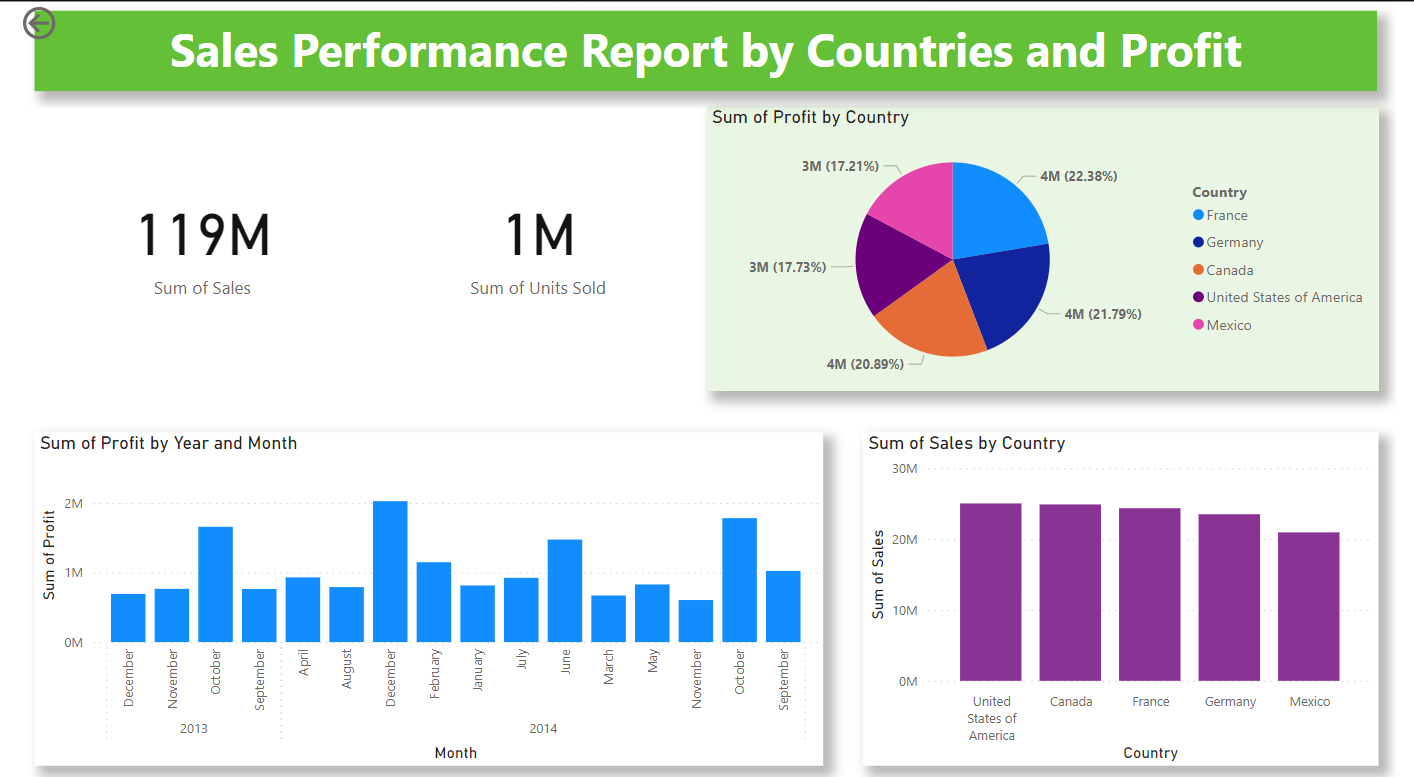

The dashboard page shown, as its layout file describes it:
{"tool":"powerbi","page":{"name":"Page 2","canvas":[1280,720],"ordinal":1},"visuals":[{"type":"textbox","box":[15.7,8.6,1247.1,74.3],"z":0},{"type":"actionButton","box":[0,0,100,40],"z":1000},{"type":"cardVisual","fields":{"Data":["Sum(financials. Sales)","Sum(financials.Units Sold)"]},"box":[15.7,98.6,624.3,264.3],"z":2000},{"type":"pieChart","fields":{"Y":["Sum(financials.Profit)"],"Category":["financials.Country"]},"box":[640,97.1,624.3,264.3],"z":3000},{"type":"columnChart","fields":{"Y":["Sum(financials.Profit)"],"Category":["financials.Year","financials.Month"]},"box":[15.7,400,732.9,310],"z":4000},{"type":"columnChart","fields":{"Y":["Sum(financials. Sales)"],"Category":["financials.Country"]},"box":[785,400,479,310],"z":5000}]}

Visuals, with their boxes in screenshot pixels (x1, y1, x2, y2), scaled from the page's 1280x720 canvas onto the 1414x777 screenshot:
textbox: bbox(17, 9, 1395, 89)
actionButton: bbox(0, 0, 110, 43)
cardVisual - Sum(financials. Sales) x Sum(financials.Units Sold): bbox(17, 106, 707, 392)
pieChart - Sum(financials.Profit) x financials.Country: bbox(707, 105, 1397, 390)
columnChart - Sum(financials.Profit) x financials.Year: bbox(17, 432, 827, 766)
columnChart - Sum(financials. Sales) x financials.Country: bbox(867, 432, 1396, 766)
